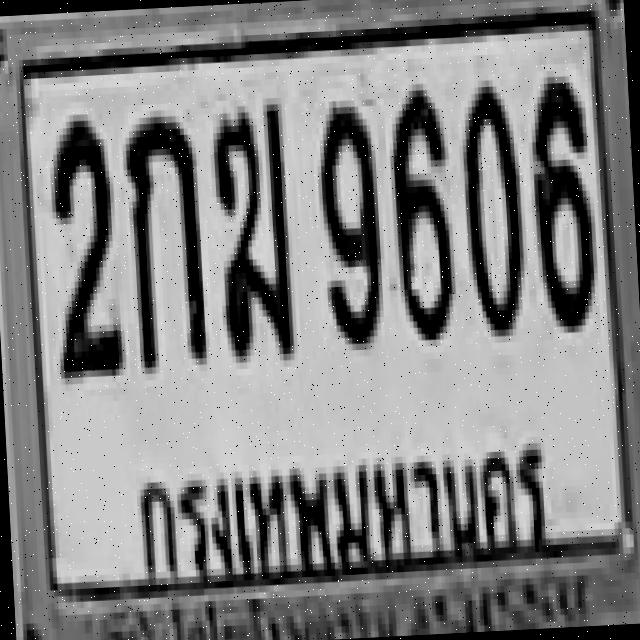0: (456, 80, 524, 332)
10GorGai: (120, 109, 207, 368)
15KhorRaKhang: (208, 98, 294, 357)
2: (44, 114, 120, 378)
6: (527, 75, 595, 328), (386, 86, 454, 338)
9: (314, 100, 382, 346)
Bangkok: (120, 431, 564, 590)
